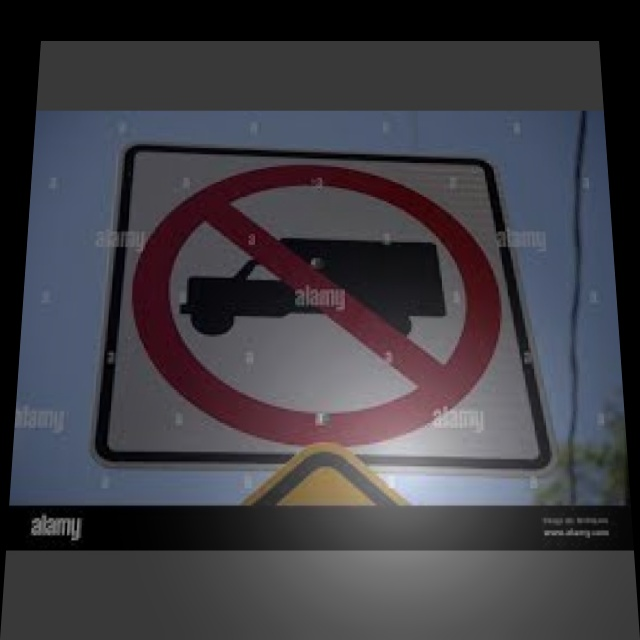Truck_Prohibited: (128, 161, 520, 442)
